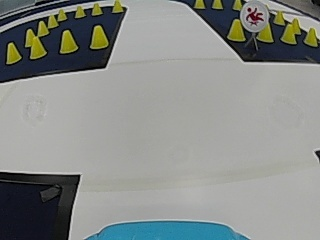cone: (226, 19, 245, 42), (59, 30, 77, 53), (90, 25, 107, 49), (29, 37, 45, 59), (5, 42, 20, 64), (281, 23, 296, 44), (304, 26, 317, 47), (257, 25, 273, 42), (36, 19, 48, 36), (25, 28, 34, 47), (274, 9, 284, 25), (74, 5, 85, 18), (47, 14, 57, 28), (92, 3, 102, 16), (112, 0, 122, 13), (57, 8, 67, 21), (212, 0, 223, 10), (232, 0, 242, 11), (193, 0, 205, 9)
tumble: (241, 2, 268, 29)
